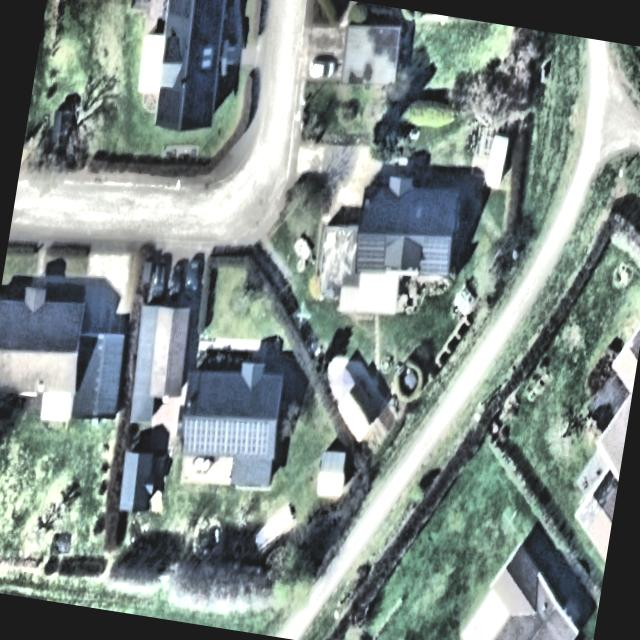roof_pv: (178, 406, 276, 464), (352, 230, 392, 279), (416, 235, 456, 282)
